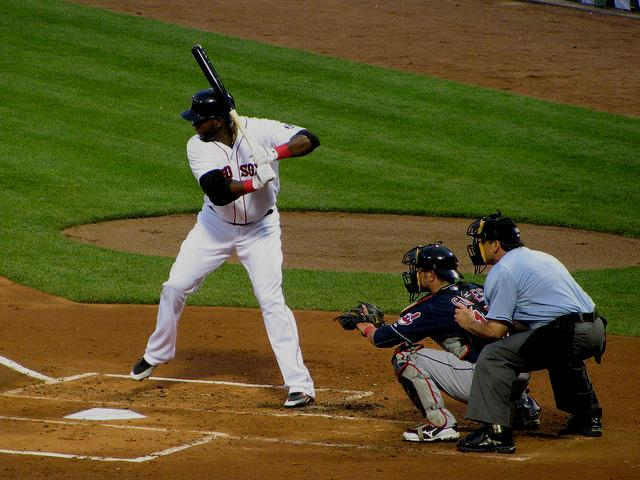bat: (192, 41, 258, 151)
